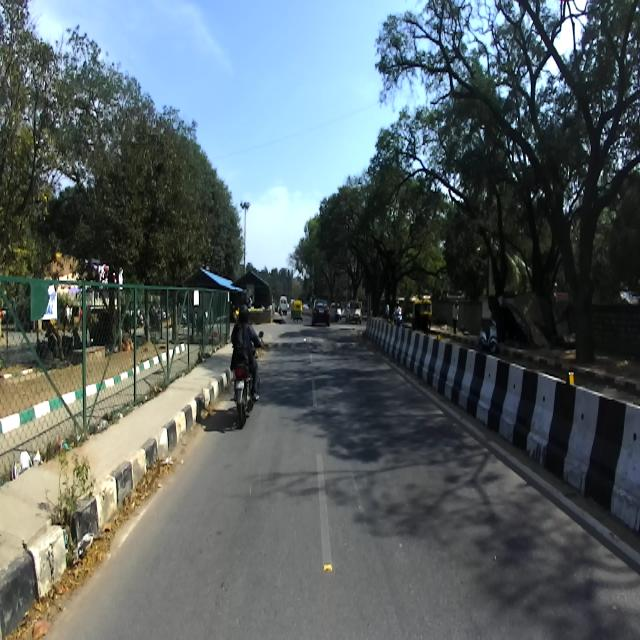motorcycle ahead at: (224, 356, 262, 430)
